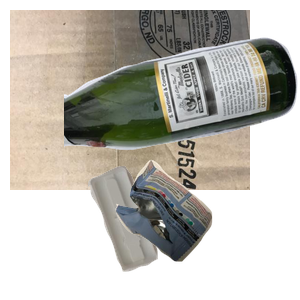cardboard: (10, 10, 250, 190)
glass: (64, 35, 300, 181)
plastic: (85, 163, 235, 300)
trash: (113, 157, 300, 300)
